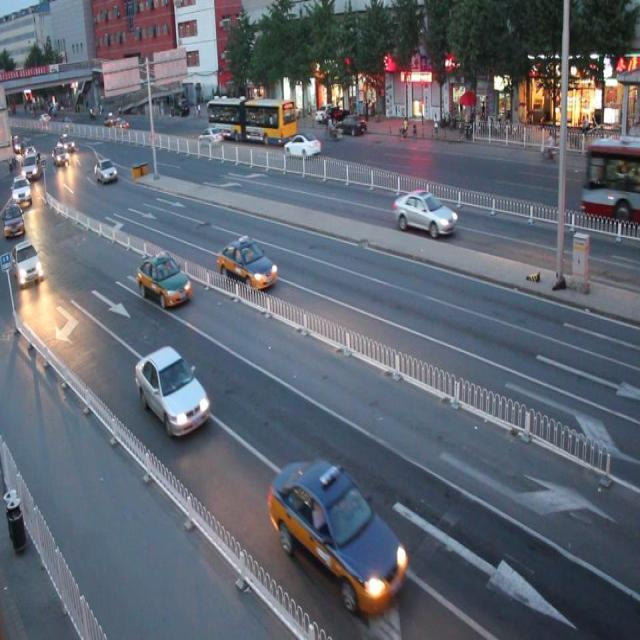car: (265, 452, 406, 616), (135, 342, 209, 438), (392, 185, 456, 240), (216, 236, 276, 291), (138, 251, 192, 306), (283, 131, 320, 159)
van: (582, 134, 640, 225), (208, 96, 294, 146)
